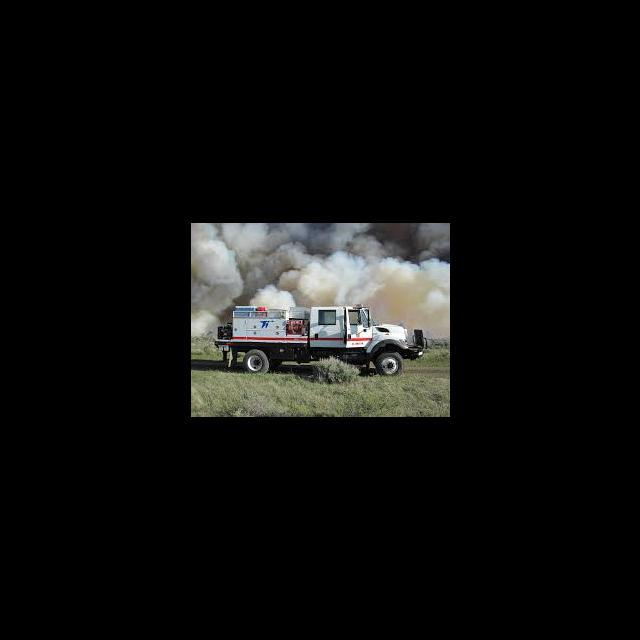Smoke: (192, 224, 448, 333)
